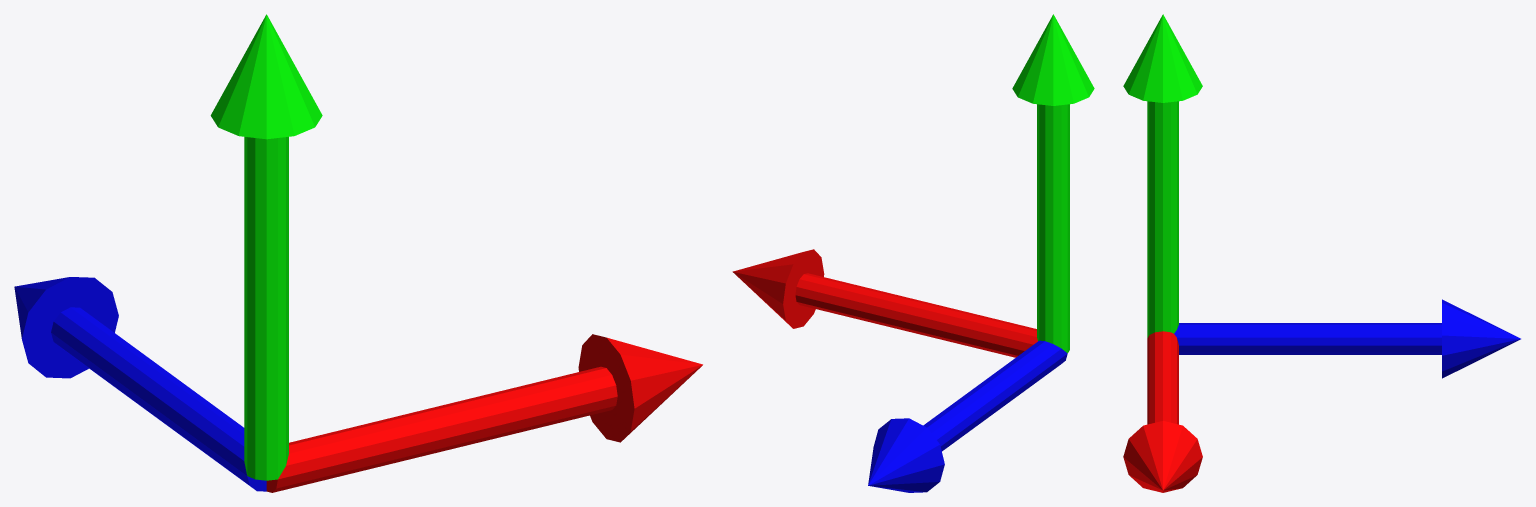
Rendered from move-pointer.gltf.
3 renders of one model, left to right at view 1: azimuth 30°, elevation 25°; view 2: azimuth 150°, elevation 25°; view 3: azimuth 270°, elevation 25°, orthographic. The views are drawn at different scales.
Visible parts, largest first — view 1: CylinderX, CylinderY, CylinderZ, ConeY, ConeX, ConeZ; view 2: CylinderX, CylinderY, CylinderZ, ConeZ, ConeY, ConeX; view 3: CylinderZ, CylinderY, ConeX, ConeY, ConeZ, CylinderX.
Boxes of the visible parts, box(x1,y1,x2,y2) form: CylinderX: box(266, 366, 617, 492); CylinderY: box(244, 137, 288, 480); CylinderZ: box(51, 307, 266, 491); ConeY: box(210, 14, 322, 139); ConeX: box(578, 334, 702, 442); ConeZ: box(14, 277, 118, 378); CylinderX: box(795, 273, 1037, 357); CylinderY: box(1037, 104, 1069, 353); CylinderZ: box(923, 340, 1067, 451); ConeZ: box(868, 418, 944, 492); ConeY: box(1012, 14, 1094, 105); ConeX: box(732, 249, 824, 328); CylinderZ: box(1174, 323, 1441, 354); CylinderY: box(1147, 101, 1178, 337); ConeX: box(1123, 421, 1202, 492); ConeY: box(1123, 14, 1202, 102); ConeZ: box(1442, 299, 1520, 378); CylinderX: box(1147, 331, 1178, 424).
Size of the model in its own units: 1.12 by 1.12 by 1.12.
